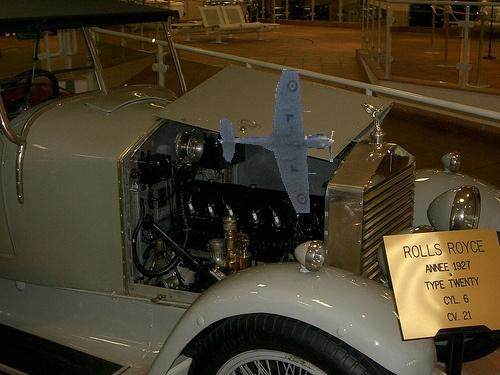tampered: (219, 70, 334, 213)
